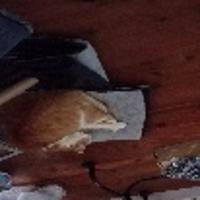asleep: (0, 89, 126, 153)
